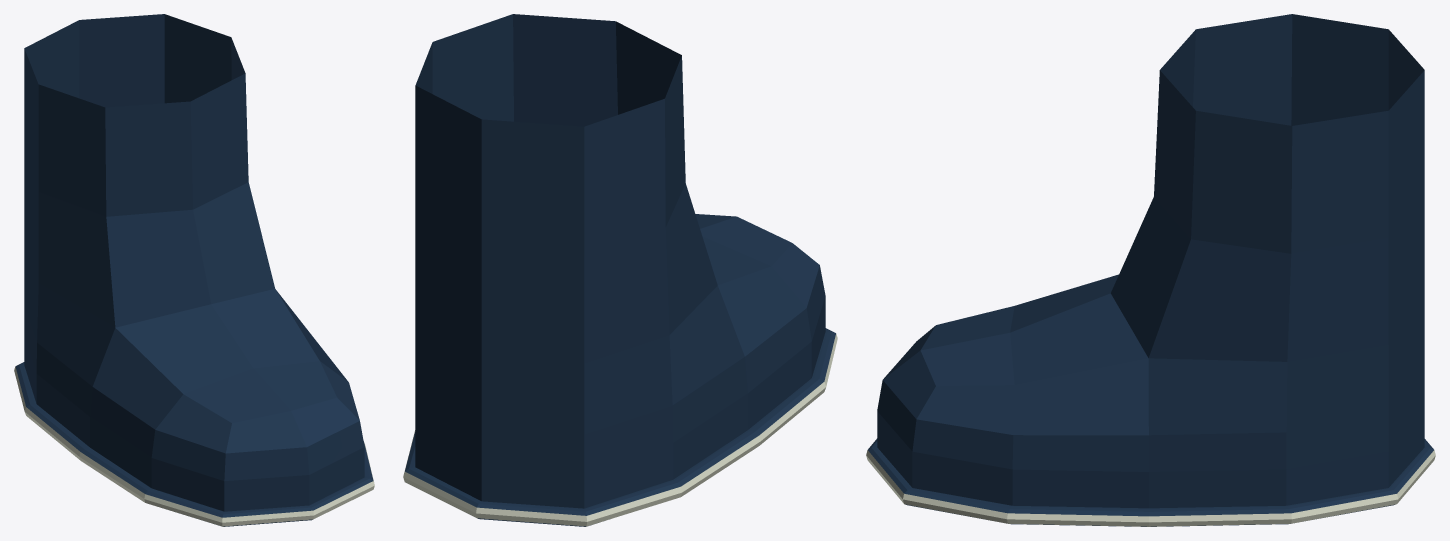
File: cowboy boot.glb
The picture shows the model from 3 angles, left to right: view 1: azimuth 30°, elevation 25°; view 2: azimuth 150°, elevation 25°; view 3: azimuth 270°, elevation 25°; orthographic projection. The views are drawn at different scales.
Visible parts, largest first — view 1: Cube.001; view 2: Cube.001; view 3: Cube.001.
Boxes of the visible parts, x1,y1,x2,y2 form: Cube.001: [14, 14, 374, 526]; Cube.001: [403, 14, 837, 526]; Cube.001: [866, 14, 1435, 526].
Bounding box in the file's own units: 2.2 × 3 × 3.94.
